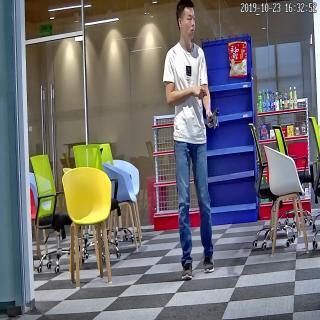gun: (205, 104, 221, 132)
